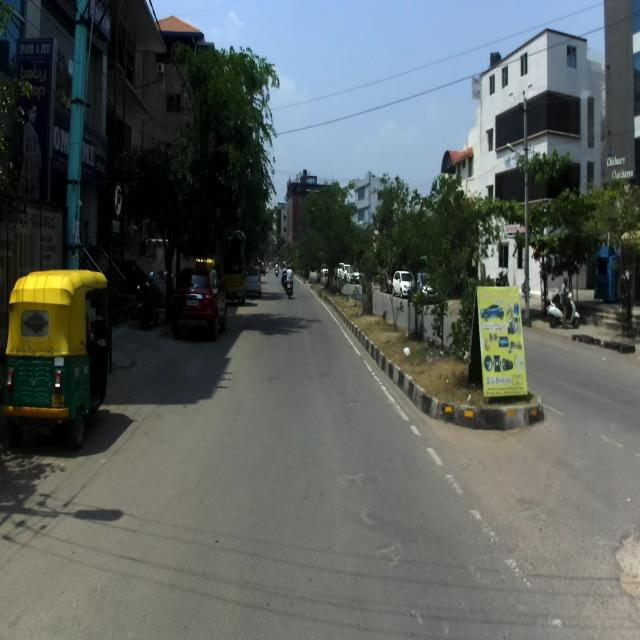Car_Maruti-Suzuki: (172, 261, 228, 339)
autorickshaw: (0, 268, 112, 447)
scooter: (547, 289, 581, 329)
